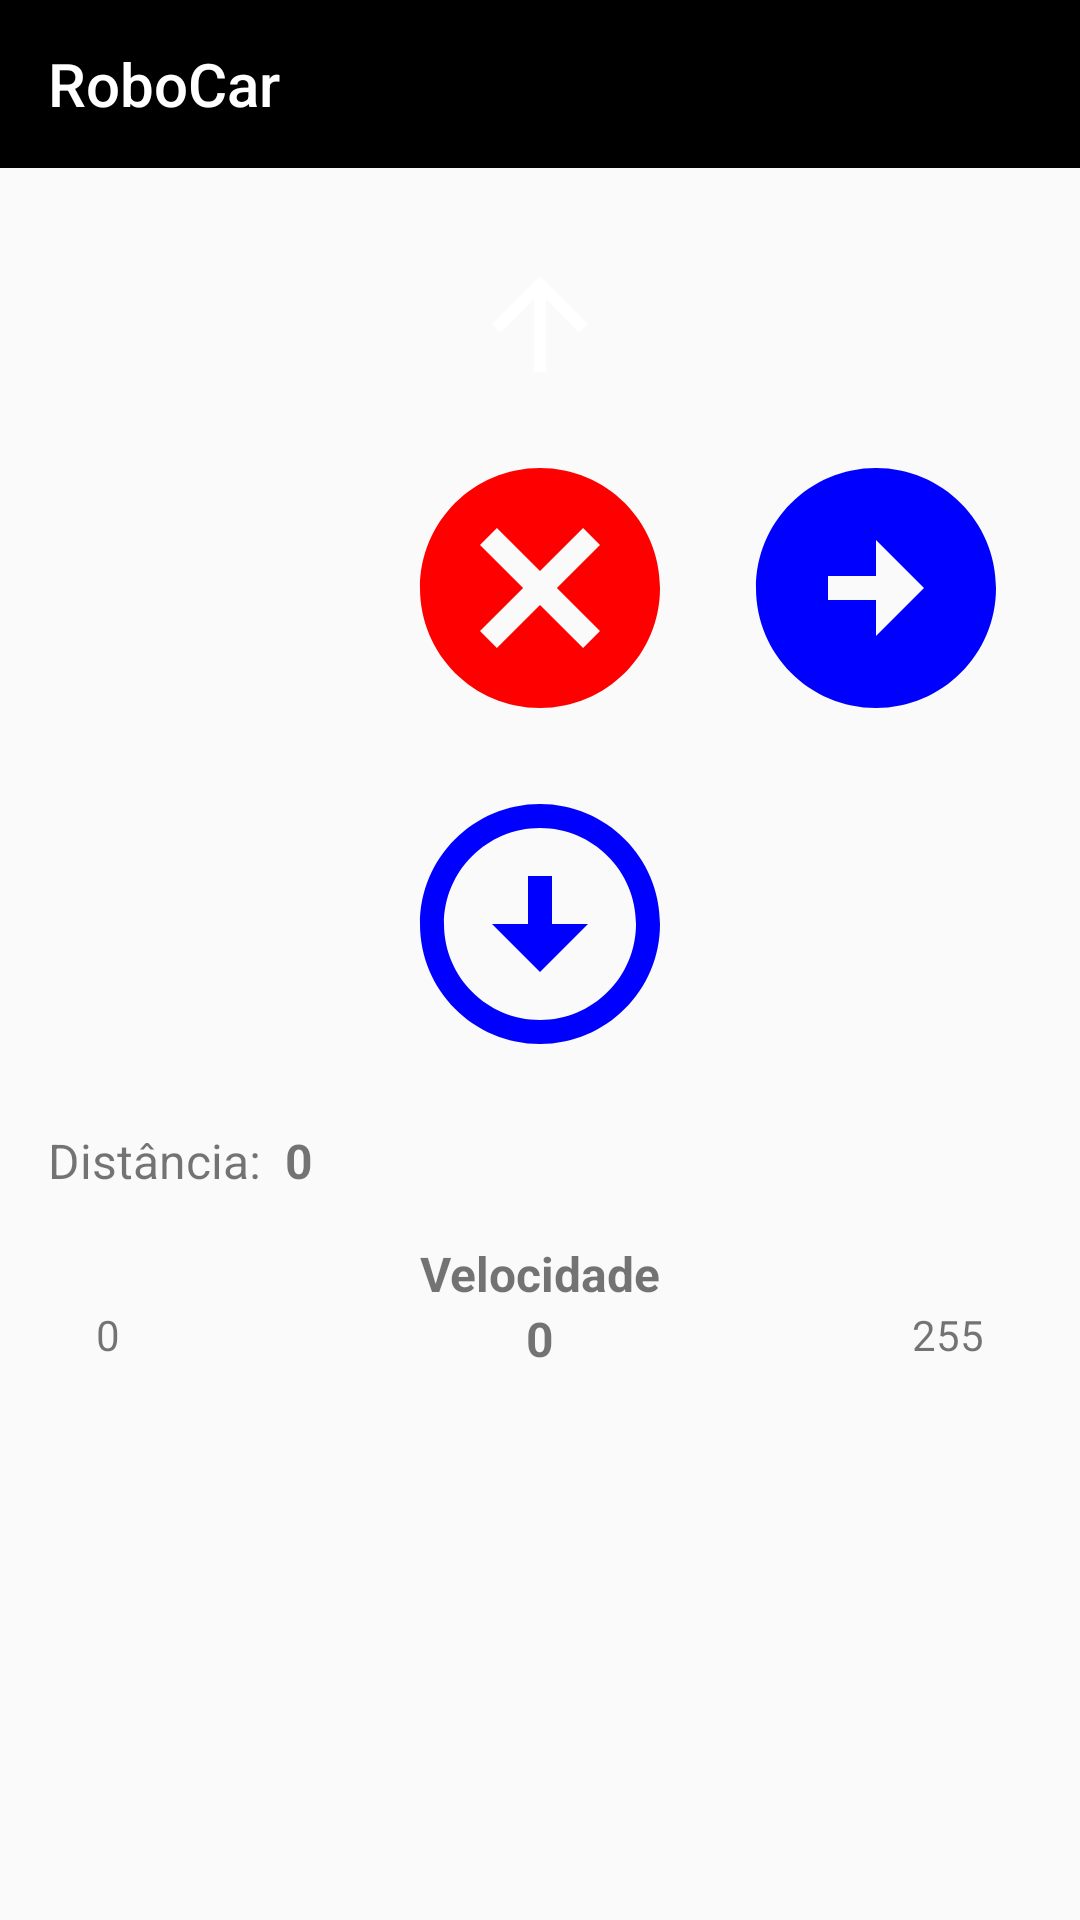

Screen size 1080px x 1920px. Icon name, then its center in pixels as point (x, y):
Down: point (540, 924)
Right: point (876, 588)
Stop: point (540, 588)
